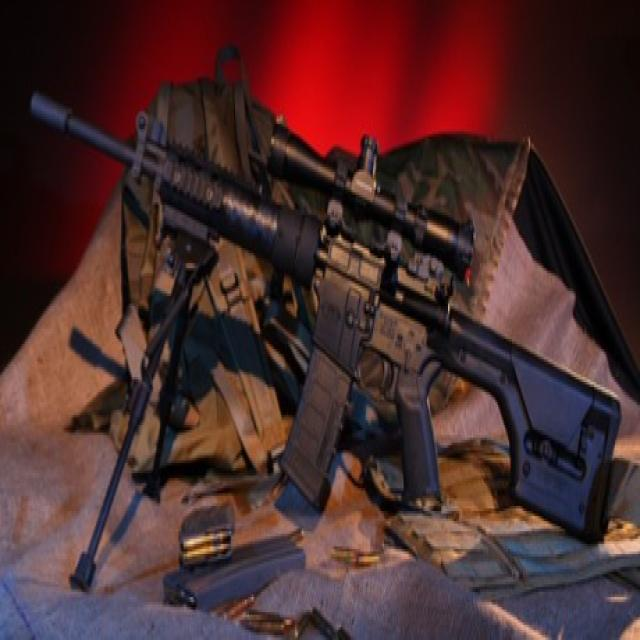rifle: (27, 75, 626, 604)
